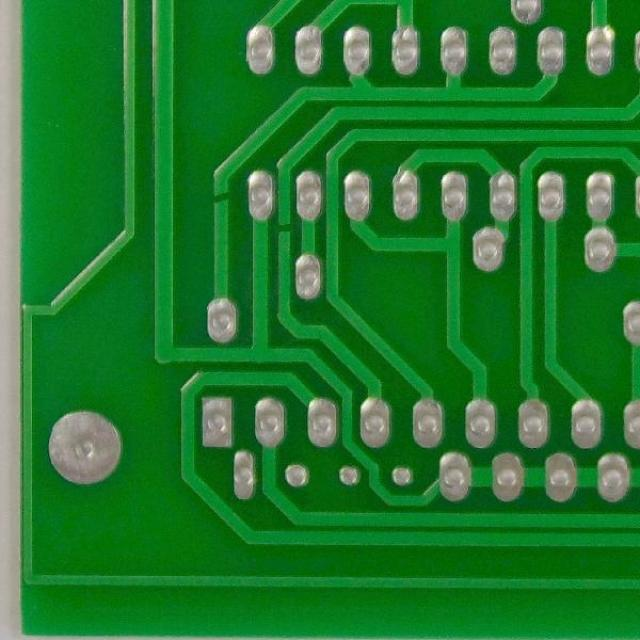open_circuit: (204, 187, 234, 212), (274, 221, 298, 239)
